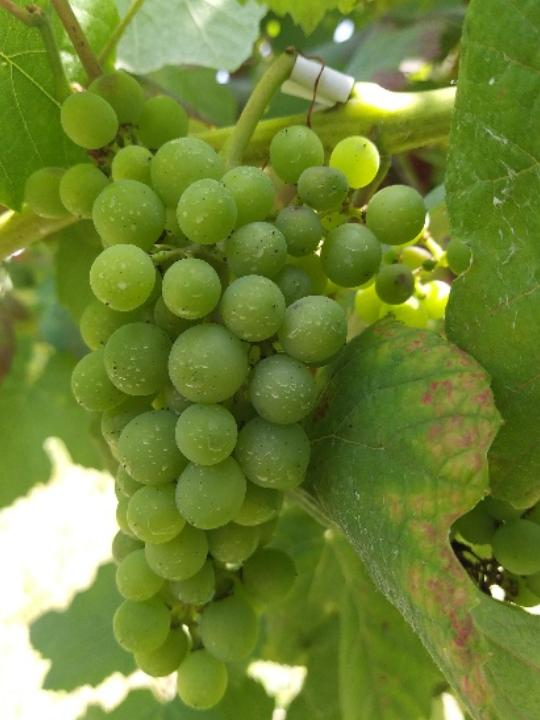grape: (23, 68, 437, 715)
